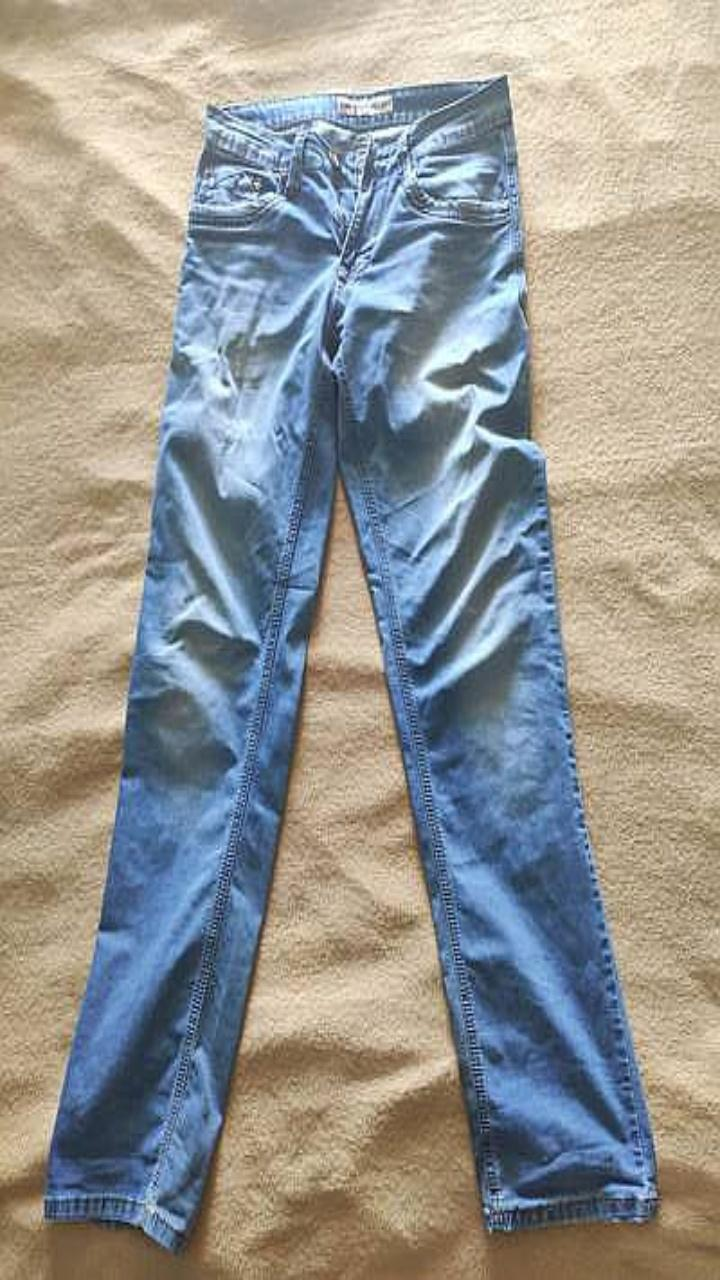Jeans: (44, 75, 658, 1250)
